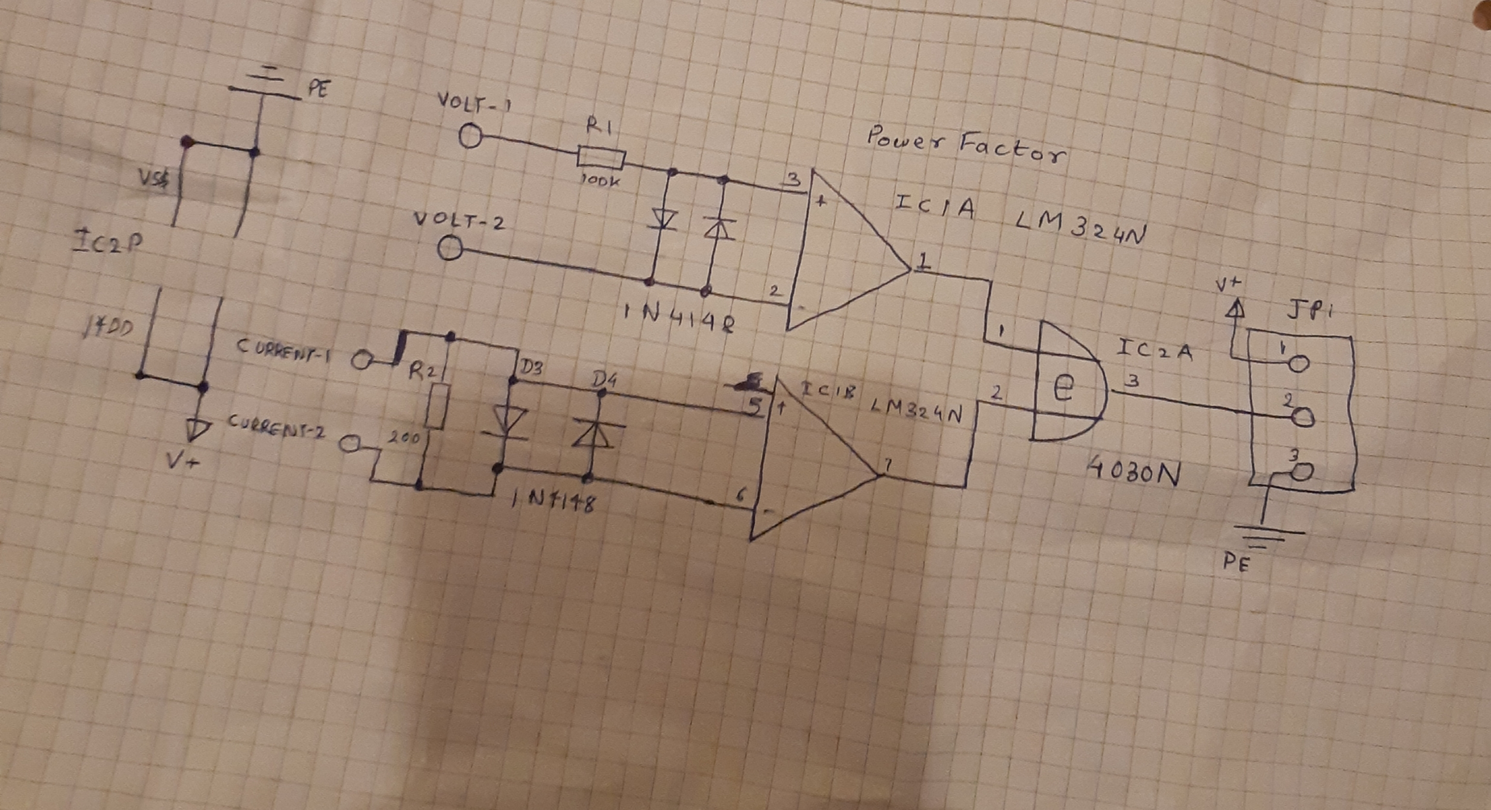diode: (564, 413, 629, 453), (480, 400, 532, 444), (700, 214, 741, 243), (643, 205, 683, 234)
gnd: (222, 60, 309, 104), (1231, 518, 1310, 550)
junction: (580, 469, 597, 487), (179, 133, 197, 150), (194, 379, 210, 396), (593, 385, 610, 400), (491, 460, 506, 476), (247, 144, 262, 160), (716, 172, 731, 188), (698, 283, 713, 299), (642, 274, 657, 289), (442, 329, 457, 344), (132, 367, 147, 382), (664, 165, 678, 179), (978, 333, 992, 347), (411, 479, 425, 492), (972, 394, 985, 407), (388, 357, 401, 370), (506, 374, 520, 386), (983, 275, 996, 287), (397, 326, 410, 338), (959, 481, 971, 493), (365, 474, 377, 485), (1226, 351, 1237, 362), (374, 445, 385, 455), (487, 490, 497, 500), (512, 345, 522, 355)
operational_amplifier: (742, 369, 881, 547), (782, 169, 928, 333)
resistor: (421, 376, 455, 434), (574, 142, 628, 173)
terminal: (1241, 323, 1368, 503), (434, 231, 467, 265), (456, 121, 485, 152), (349, 347, 375, 372), (336, 432, 363, 455), (152, 281, 166, 294), (166, 219, 180, 232), (229, 231, 241, 243), (216, 291, 226, 302)
text: (865, 124, 1075, 163), (1005, 206, 1154, 252), (618, 298, 743, 341), (1080, 448, 1190, 495), (226, 410, 329, 443), (407, 204, 510, 236), (234, 334, 334, 366), (508, 484, 601, 517), (871, 393, 963, 424), (434, 87, 516, 120), (68, 224, 146, 256), (890, 191, 976, 220), (1113, 334, 1196, 363), (1283, 292, 1339, 325), (795, 377, 862, 401), (80, 313, 136, 340), (135, 164, 176, 195), (580, 171, 624, 193), (164, 449, 202, 471), (585, 113, 618, 138), (1210, 271, 1243, 296), (387, 427, 423, 447), (517, 357, 548, 380), (1221, 550, 1249, 574), (408, 359, 438, 381), (590, 368, 620, 390), (737, 396, 768, 416), (308, 76, 331, 99), (1120, 372, 1143, 392), (782, 169, 802, 188), (1275, 336, 1291, 359), (1280, 389, 1296, 411), (915, 252, 931, 273), (1285, 445, 1301, 466), (989, 382, 1006, 401), (813, 191, 829, 209), (733, 483, 748, 502), (882, 453, 895, 474), (775, 397, 788, 415), (993, 322, 1006, 338), (768, 283, 781, 298), (763, 507, 777, 518), (795, 301, 808, 312)
vss: (181, 416, 213, 444), (1223, 295, 1251, 320)
xor: (1023, 318, 1110, 445)
